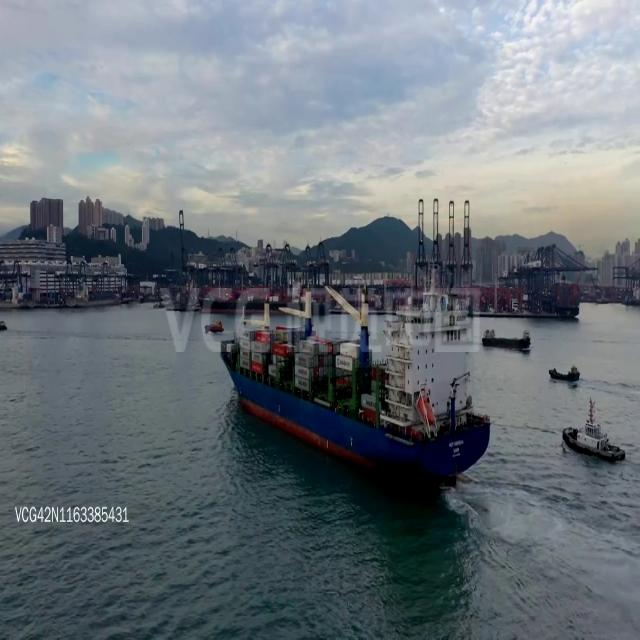cargoship: (220, 298, 490, 489)
fishing boat: (563, 400, 626, 468), (480, 320, 534, 351), (548, 361, 580, 385), (202, 317, 225, 334)
